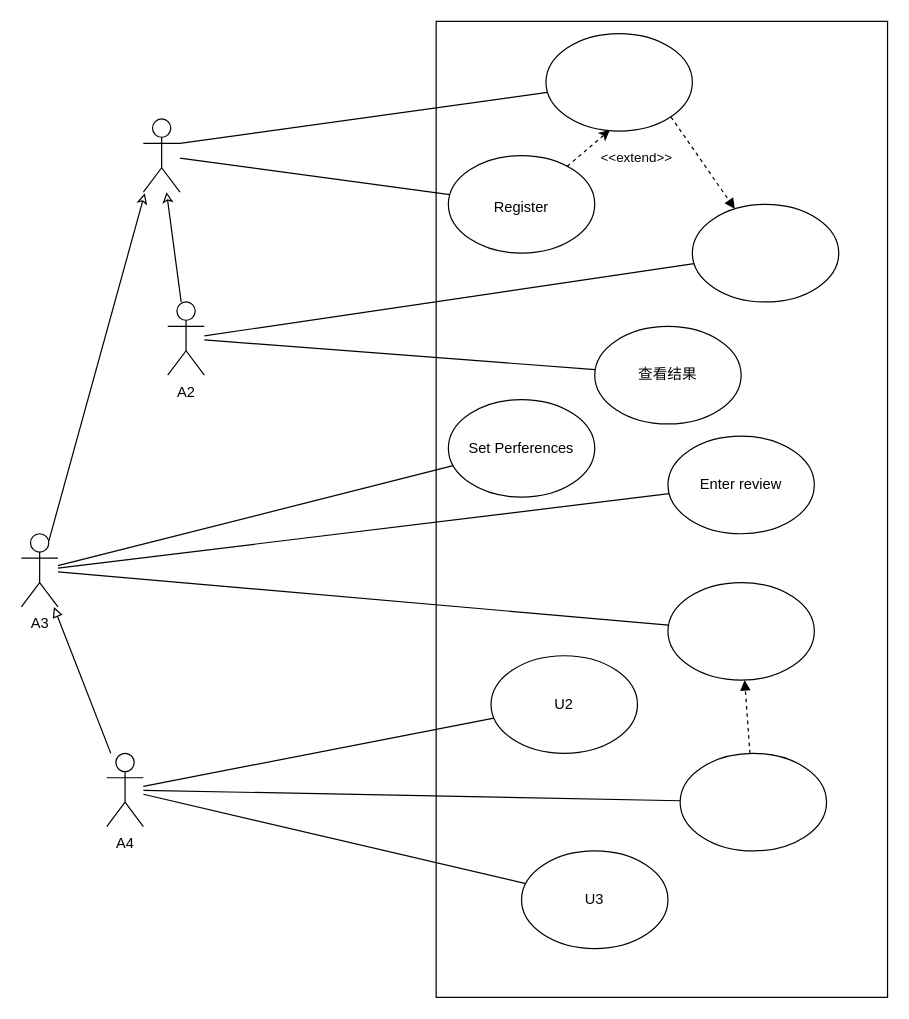
Some shapes in this 909 by 1019 pixel diagram are drawn without their labels. Each missing label, with the centre of its shape:
A1: [161,155]
Close reviewing proces: [753,801]
login: [618,81]
Submit paper: [765,252]
U1: [740,630]
